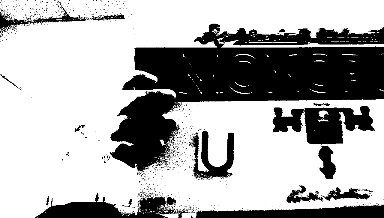U: (198, 131, 236, 172)
